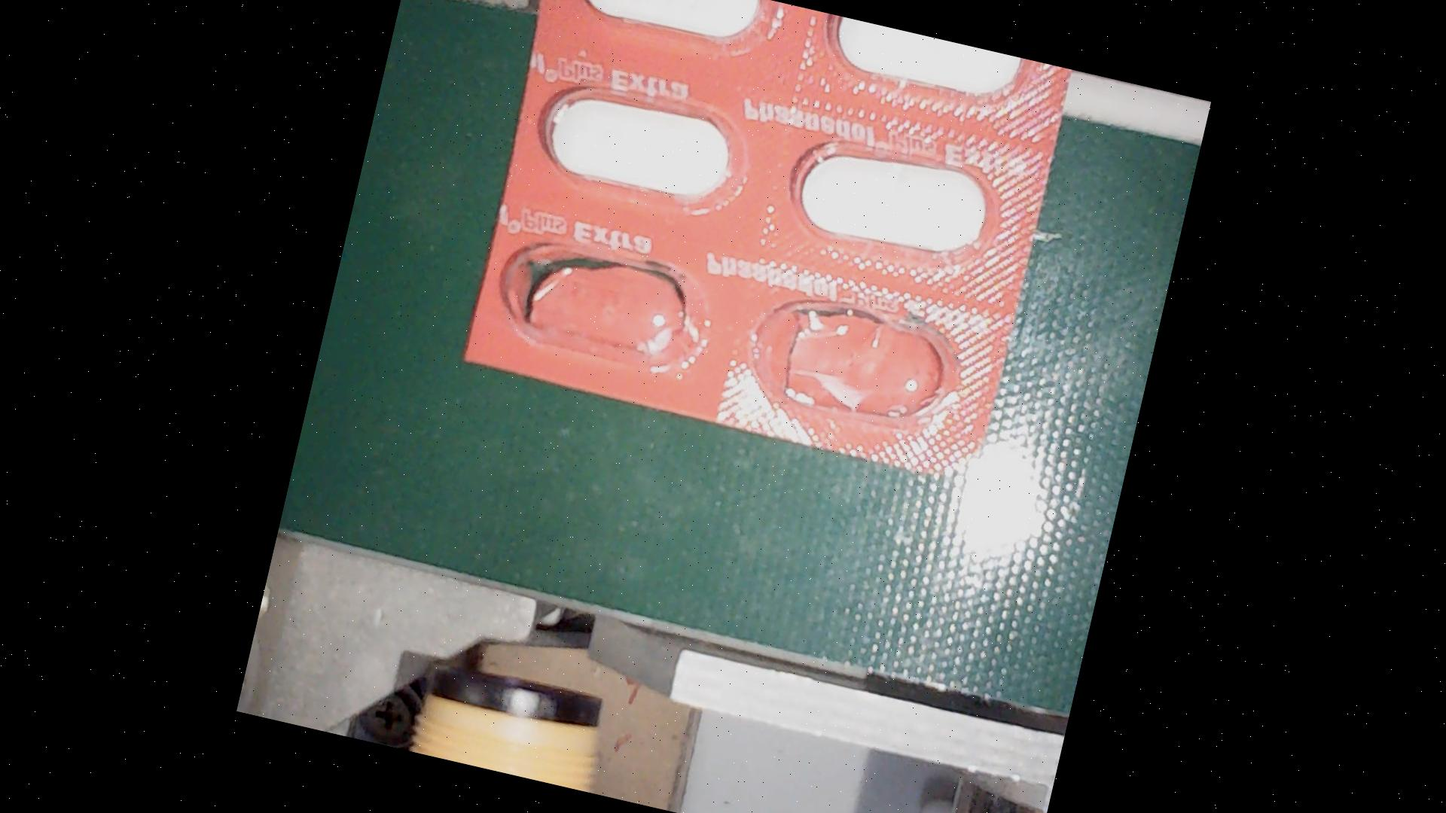Empty: (734, 276, 969, 439), (489, 223, 724, 385)
Full: (780, 114, 1014, 277), (521, 66, 756, 228), (809, 12, 1031, 121), (556, 0, 777, 69)
